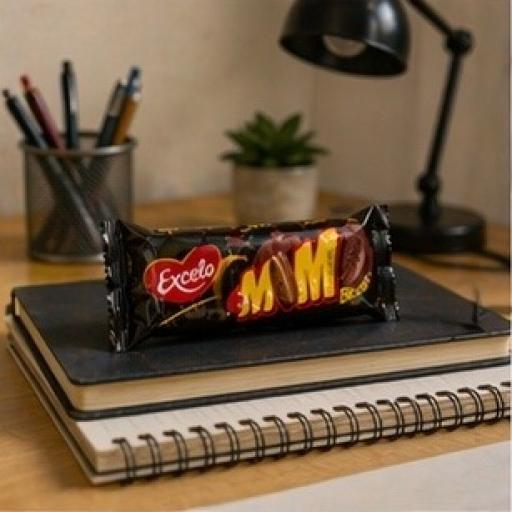MOMO: (57, 166, 436, 414)
